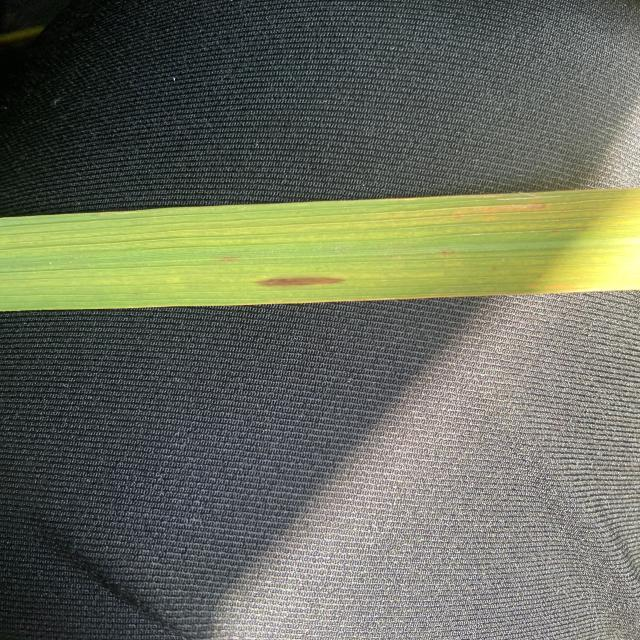Dom nau: (256, 277, 345, 286)
